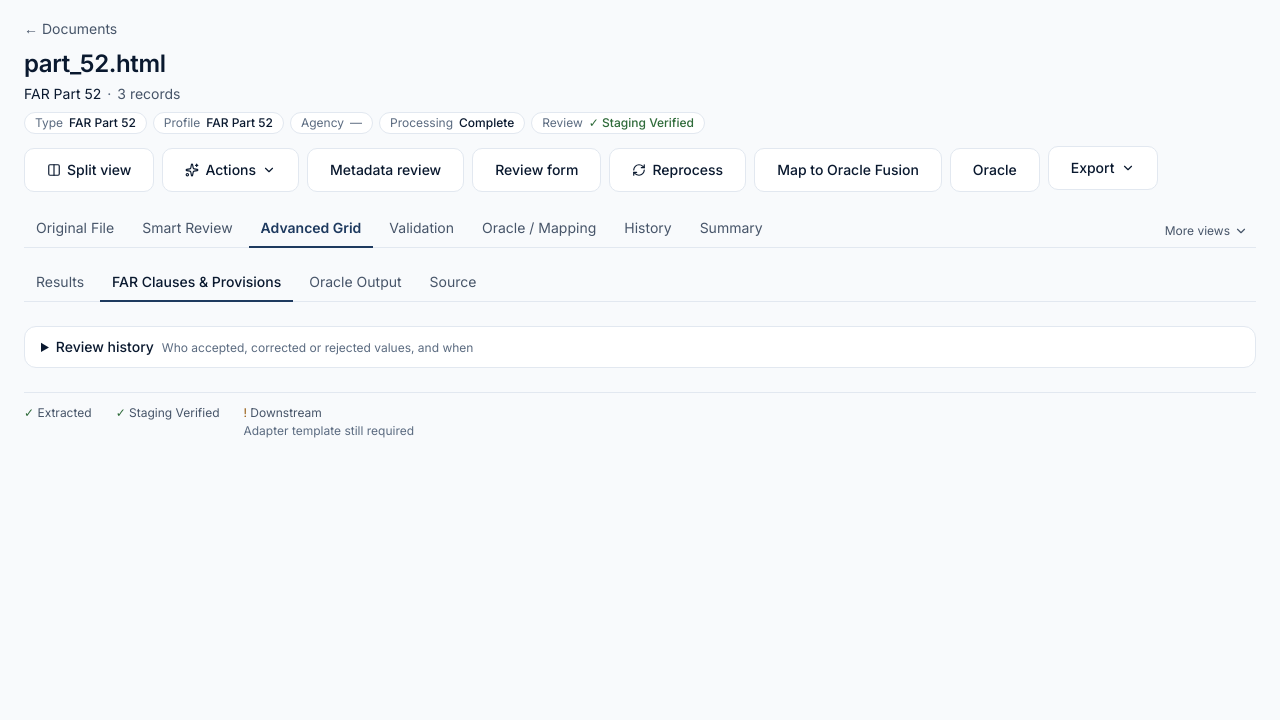
Test: DocumentWorkspace with a profile-declared presentation › Export menu offers Default and Custom; Custom opens the import-file builder
What coordinates should you click on to do the following:
click the button with test id "export-menu-trigger"
I would click on:
 (1103, 168)
Its box is x1=1048 y1=146 x2=1158 y2=190.
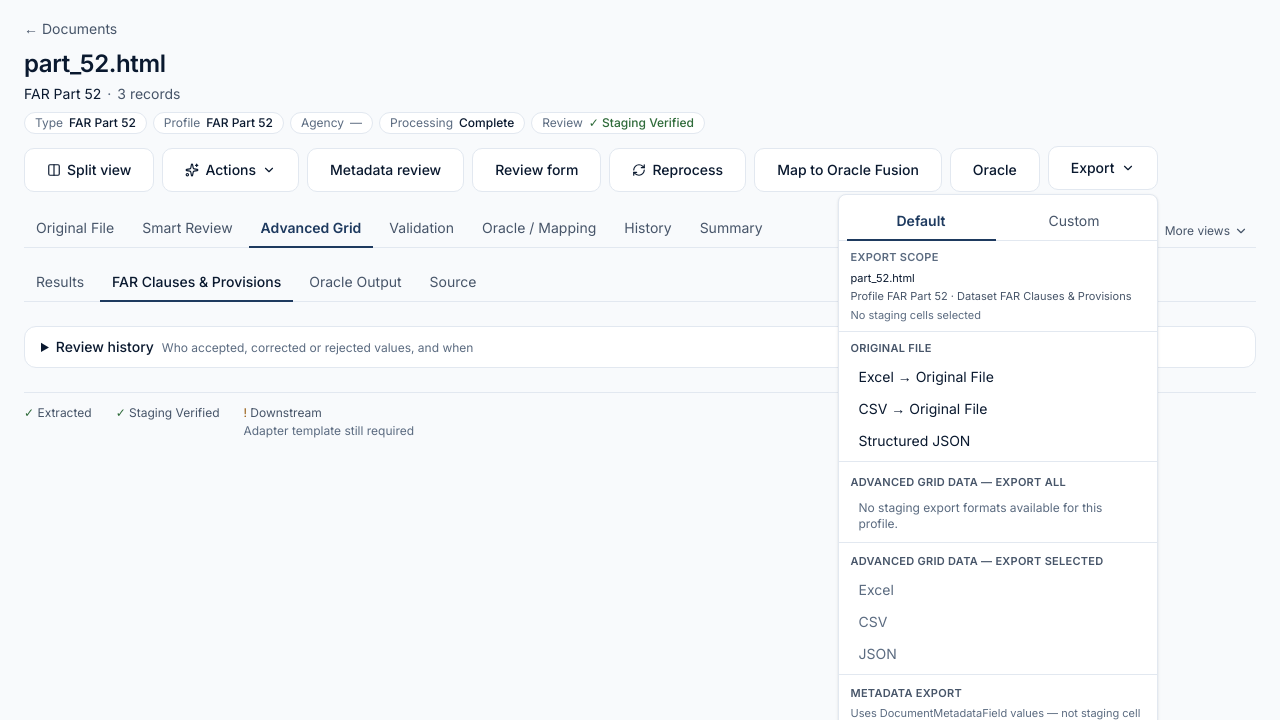
Now the text "Advanced Grid data — Export All" is shown, box x1=850 y1=474 x2=1066 y2=488
What coordinates should you click on to do the following:
click the tab "Custom"
I would click on:
 (1074, 222)
Its box is x1=1000 y1=203 x2=1148 y2=241.
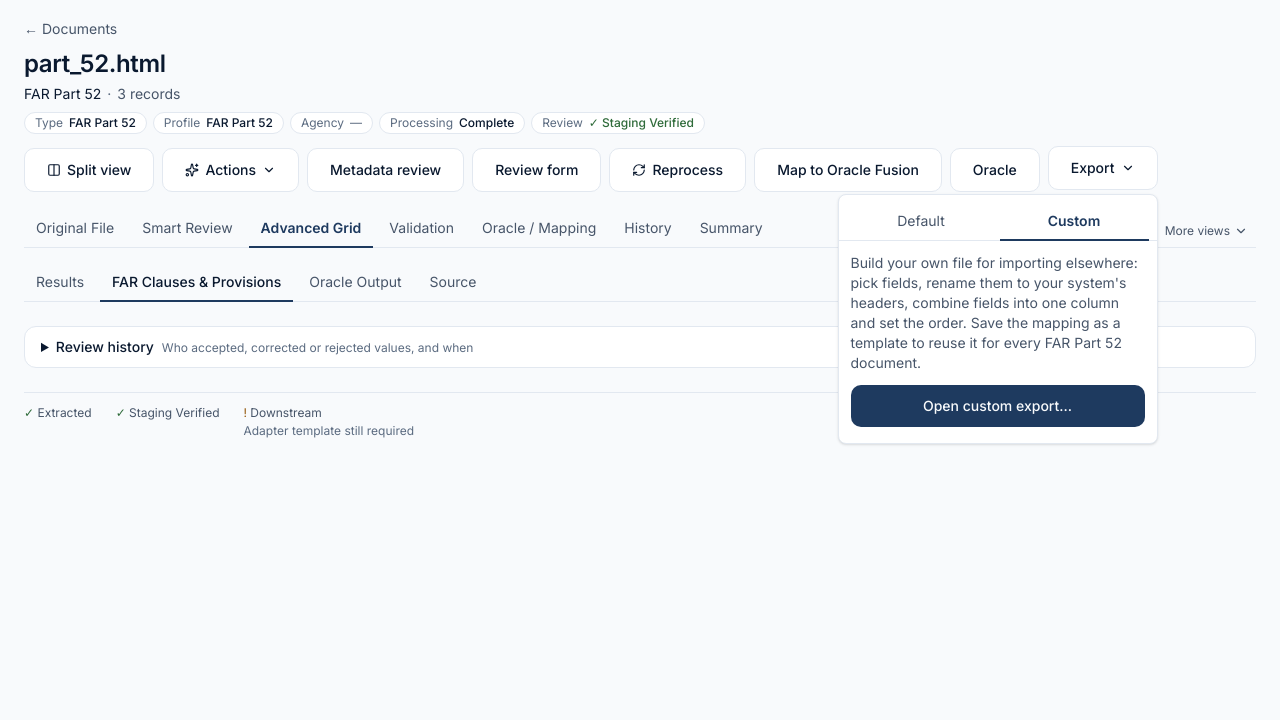
Now the text "Advanced Grid data — Export All" is gone
What coordinates should you click on to do the following:
click the menu item "Open custom export…"
I would click on:
 (998, 406)
Its box is x1=850 y1=385 x2=1144 y2=427.
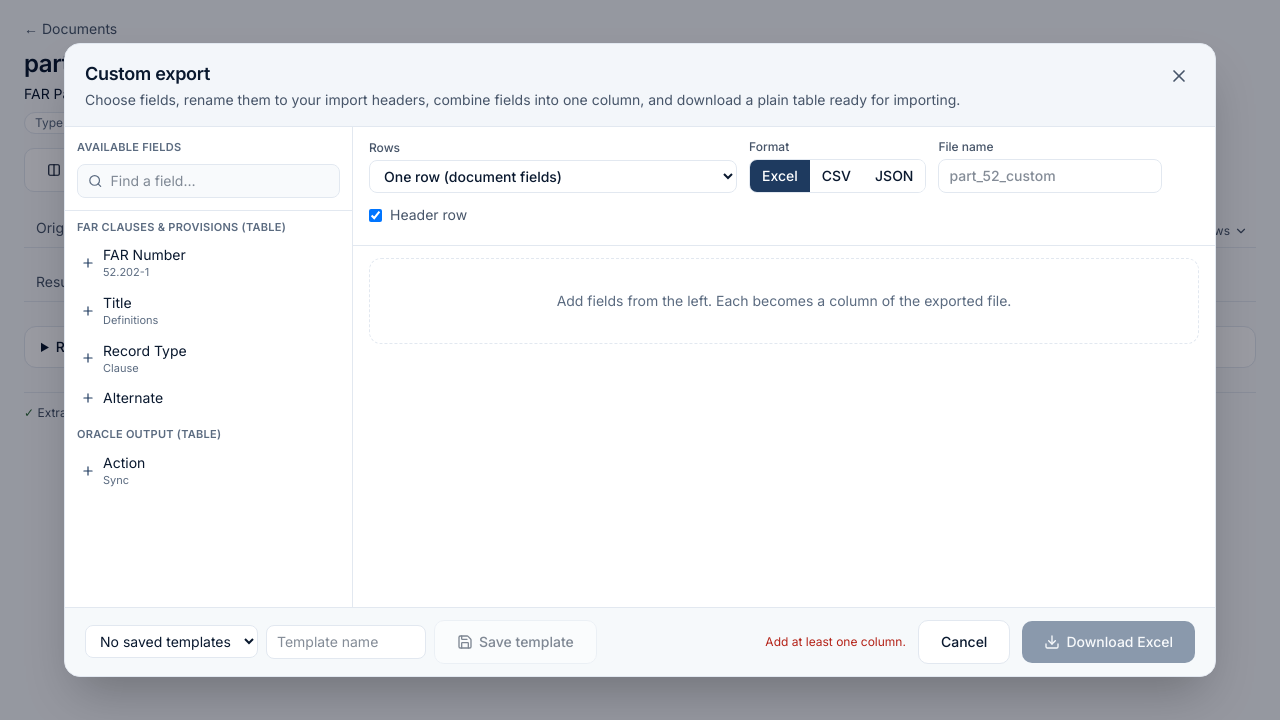
Now the dialog "Custom export" is shown
